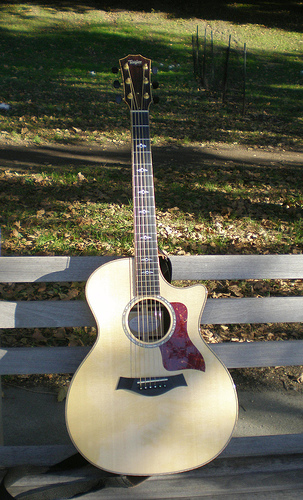guitar: (63, 54, 239, 478)
